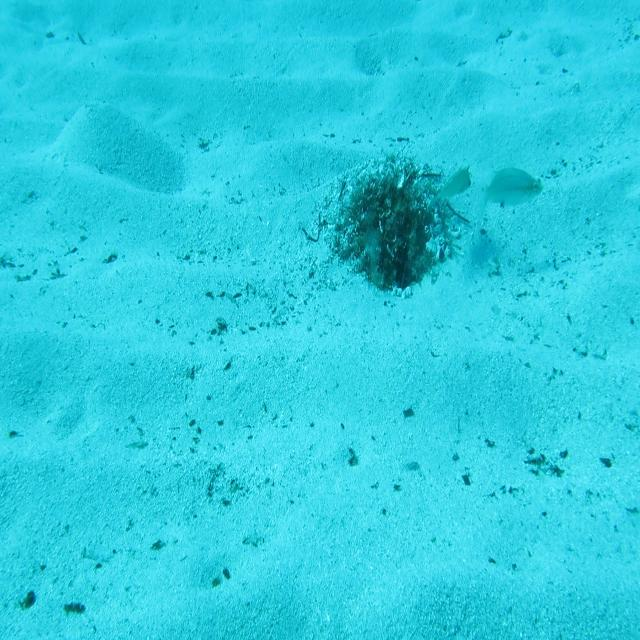BK_SW: (424, 159, 472, 214)
female: (476, 161, 545, 215)
nest: (334, 156, 455, 294)
